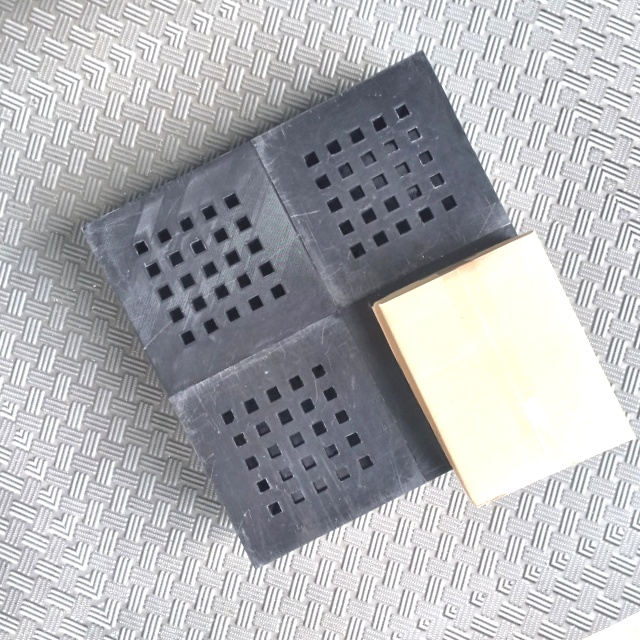box: (369, 227, 633, 512)
pallet: (69, 40, 640, 575)
